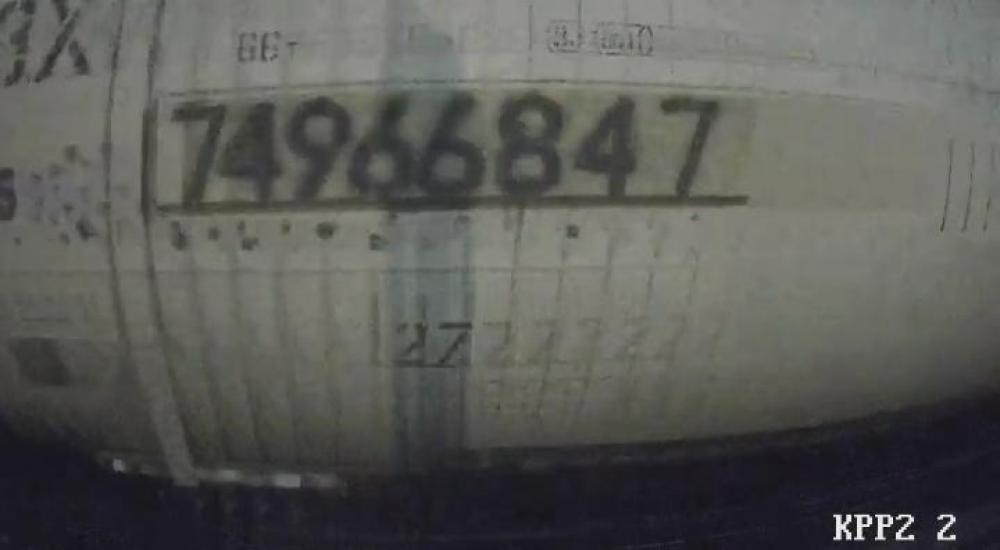Wagon-number: (161, 88, 726, 212)
